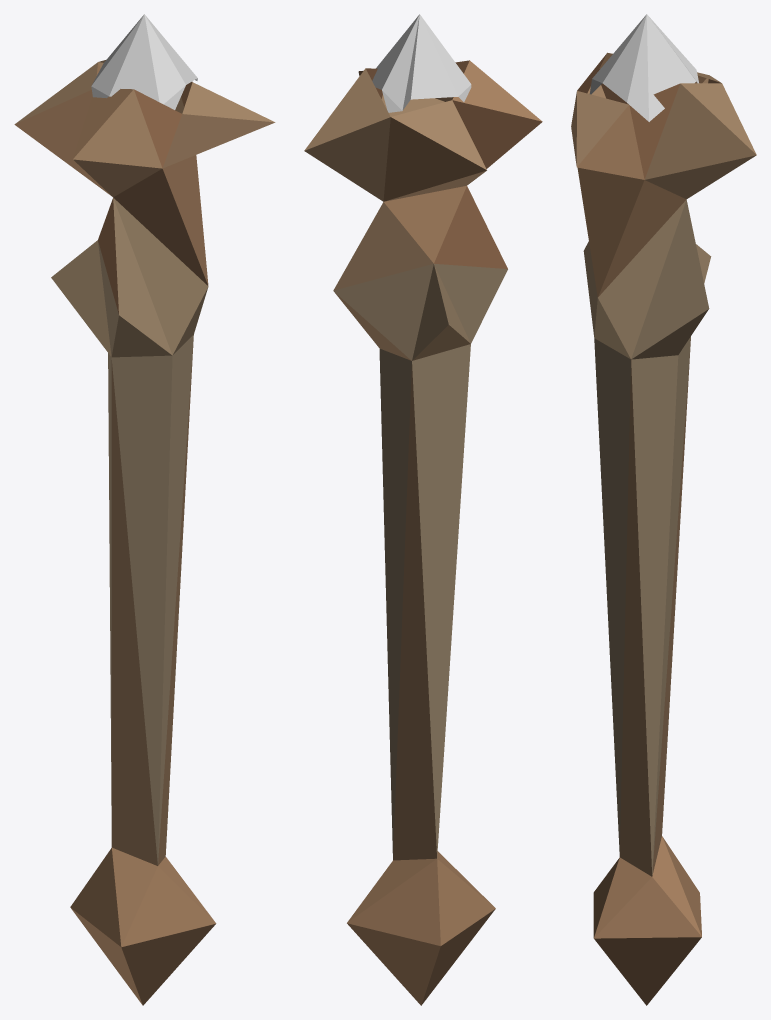
The model's file is aiwpn_wand_lo.glb.
The picture shows the model from 3 angles, left to right: view 1: azimuth 30°, elevation 25°; view 2: azimuth 150°, elevation 25°; view 3: azimuth 270°, elevation 25°; orthographic projection.
Visible parts, largest first — view 1: ca_aiwpn_wand_lo; view 2: ca_aiwpn_wand_lo; view 3: ca_aiwpn_wand_lo.
Boxes of the visible parts, x1,y1,x2,y2 form: ca_aiwpn_wand_lo: (14,14,275,1005); ca_aiwpn_wand_lo: (304,14,542,1005); ca_aiwpn_wand_lo: (571,14,756,1005).
Size of the model in its own units: 0.1557 by 0.7564 by 0.1283.
